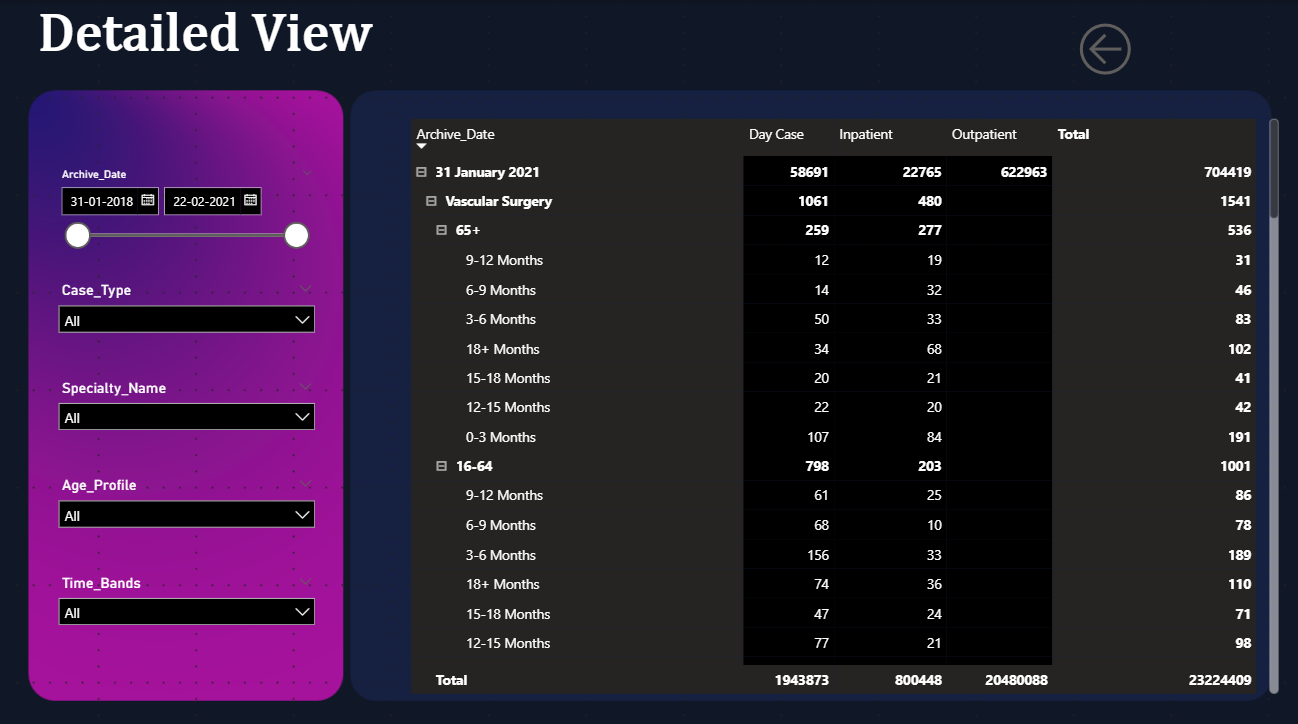

The dashboard page shown, as its layout file describes it:
{"tool":"powerbi","page":{"name":"Detail","canvas":[1280,720],"ordinal":1},"visuals":[{"type":"slicer","fields":{"Values":["All_Data.Case_Type"]},"box":[48,272,272,80],"z":0},{"type":"slicer","fields":{"Values":["All_Data.Specialty_Name"]},"box":[48,368,272,80],"z":1000},{"type":"slicer","fields":{"Values":["All_Data.Archive_Date"]},"box":[48,160,272,96],"z":2000},{"type":"textbox","box":[32,0,352,80],"z":3000},{"type":"slicer","fields":{"Values":["All_Data.Age_Profile"]},"box":[48,464,272,80],"z":4000},{"type":"slicer","fields":{"Values":["All_Data.Time_Bands"]},"box":[48,560,272,80],"z":5000},{"type":"pivotTable","fields":{"Columns":["All_Data.Case_Type"],"Rows":["All_Data.Archive_Date","All_Data.Specialty_Name","All_Data.Age_Profile","All_Data.Time_Bands"],"Values":["Sum(All_Data.Total)"]},"box":[400,112,864,576],"z":6000},{"type":"actionButton","box":[1056,16,112,64],"z":7000}]}

Visuals, with their boxes in screenshot pixels (x1, y1, x2, y2), scaled from the page's 1280x720 canvas onto the 1298x724 screenshot:
slicer - All_Data.Case_Type: box=[49, 274, 324, 354]
slicer - All_Data.Specialty_Name: box=[49, 370, 324, 450]
slicer - All_Data.Archive_Date: box=[49, 161, 324, 257]
textbox: box=[32, 0, 389, 80]
slicer - All_Data.Age_Profile: box=[49, 467, 324, 547]
slicer - All_Data.Time_Bands: box=[49, 563, 324, 644]
pivotTable - All_Data.Case_Type x All_Data.Archive_Date: box=[406, 113, 1282, 692]
actionButton: box=[1071, 16, 1184, 80]
